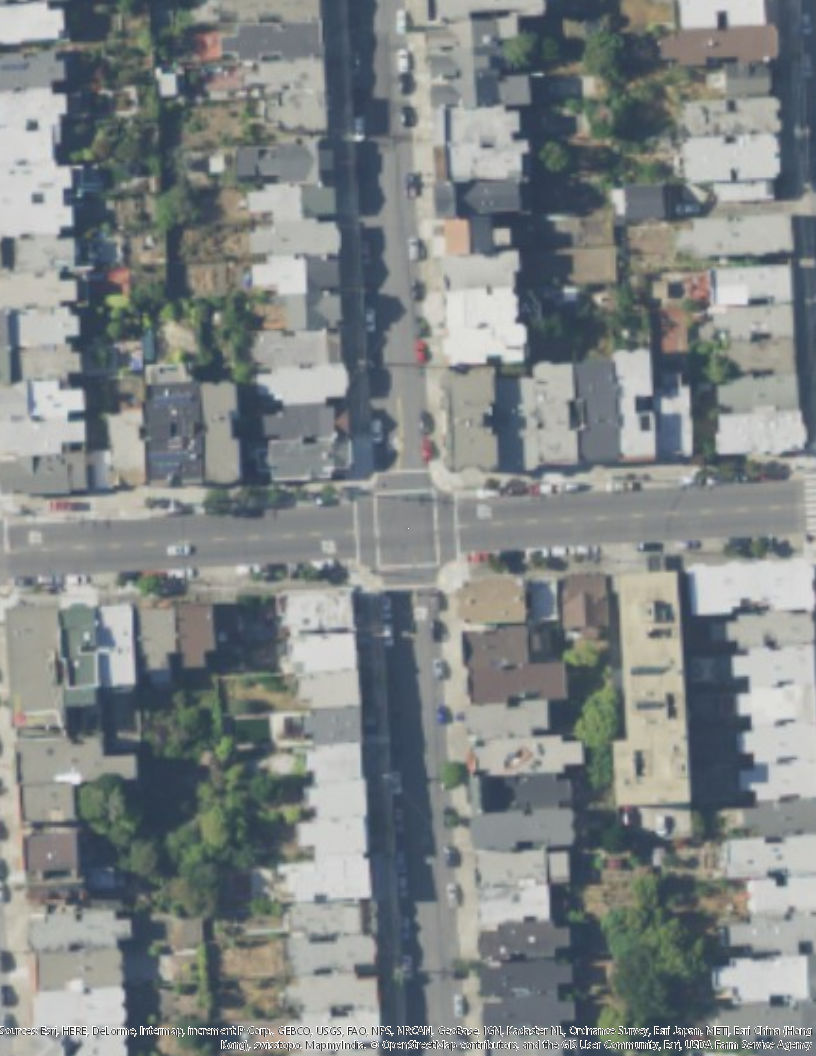zebracross: (803, 477, 816, 531)
